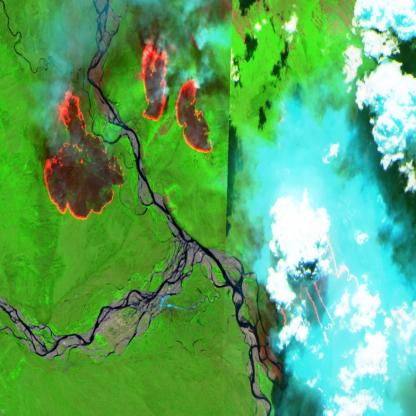fire: (267, 193, 361, 336), (36, 80, 128, 222), (139, 37, 214, 157)
